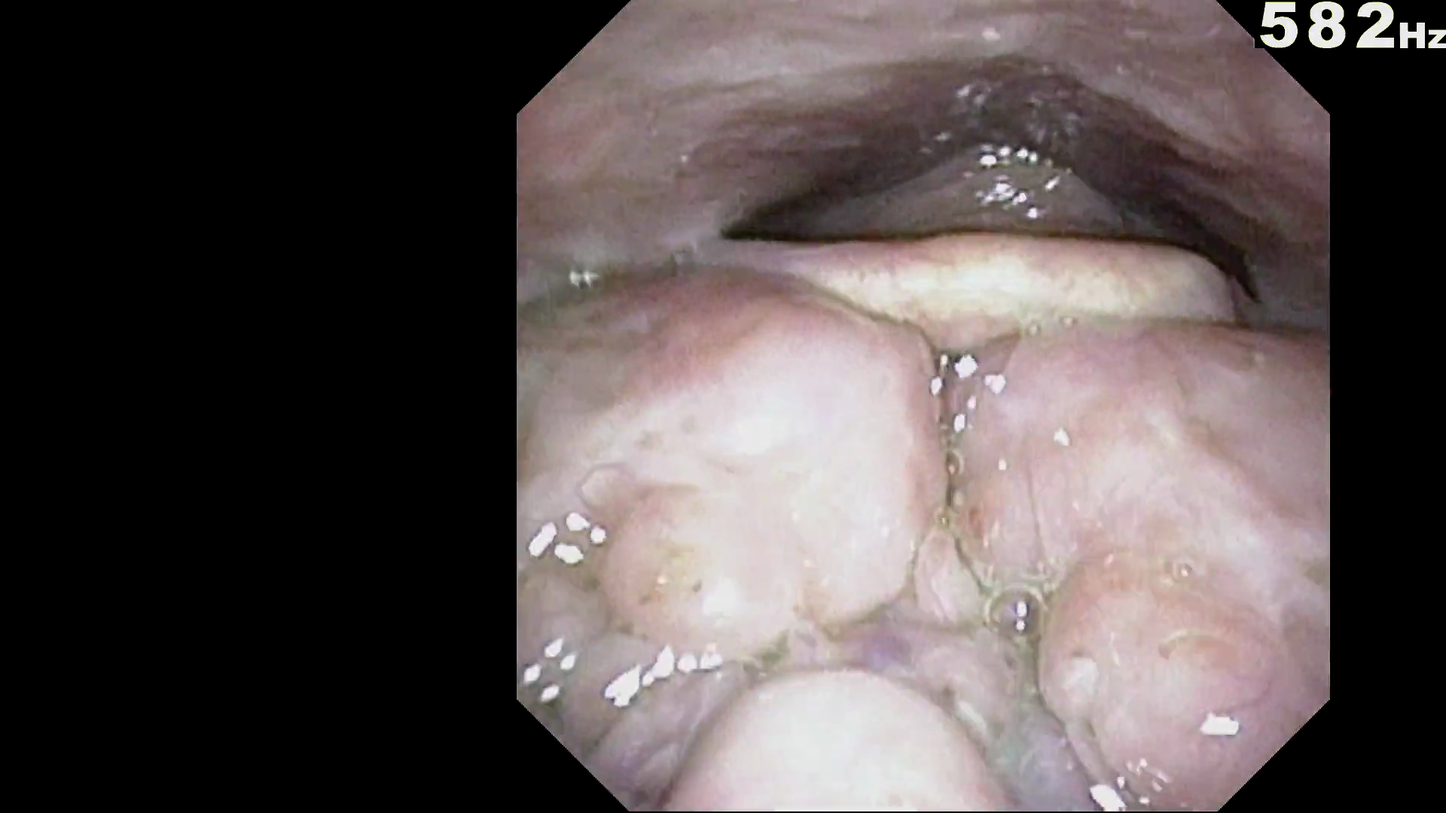epiglottis: (728, 241, 1233, 316)
